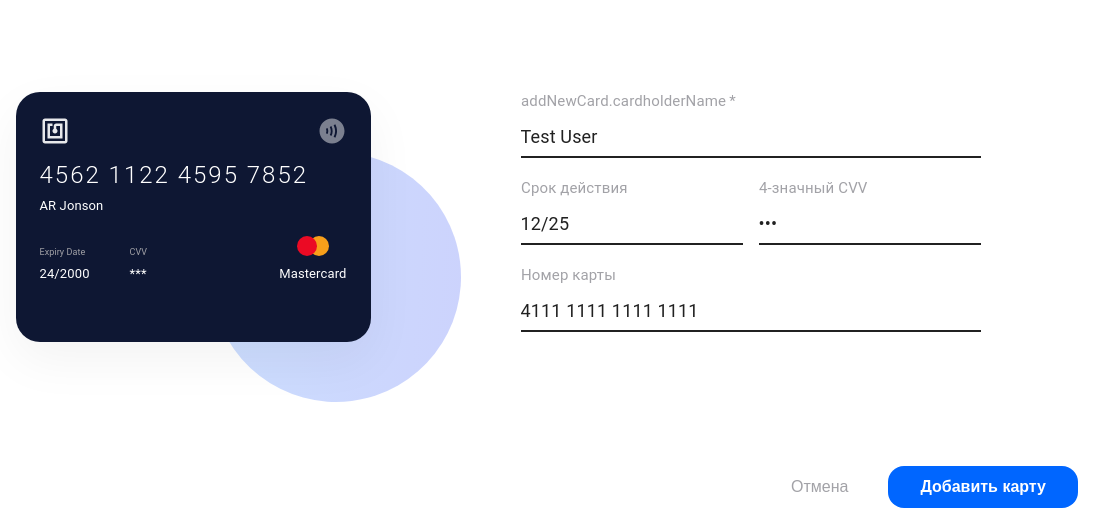
AddNewCardPage › показывает ошибку 409 (лимит счетов)
The image size is (1096, 526).
Click the button "Добавить карту": x=983, y=487 [888,466,1078,508]
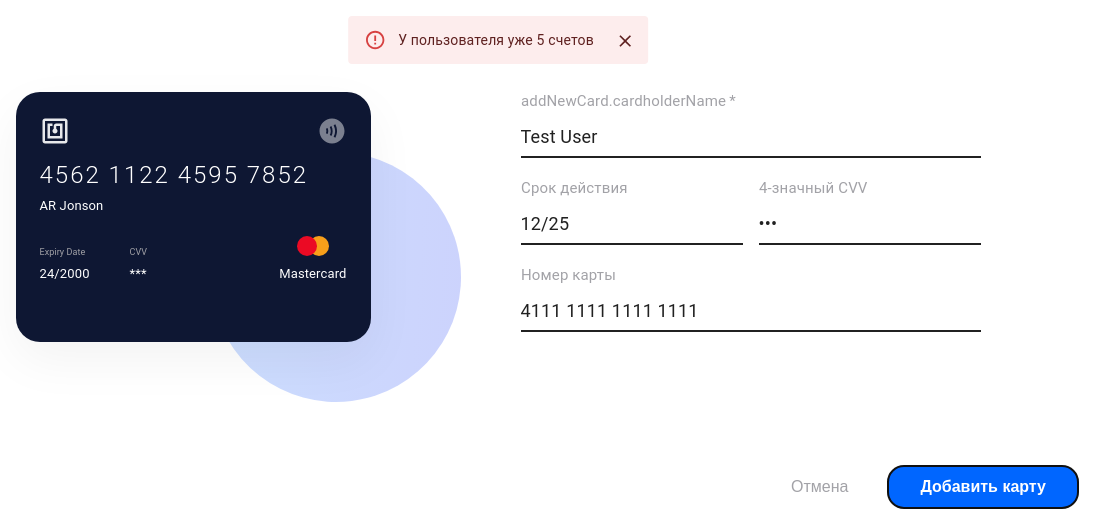
Expected: the text "У пользователя уже 5 счетов" is shown, [398,32,594,48]
